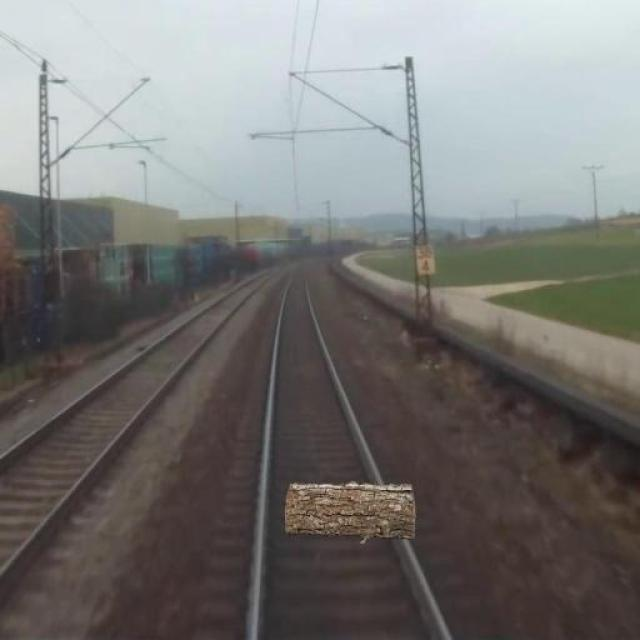Branches: (272, 465, 452, 563)
